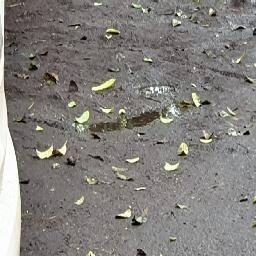water accumulation: (87, 104, 180, 133), (136, 81, 174, 95)
